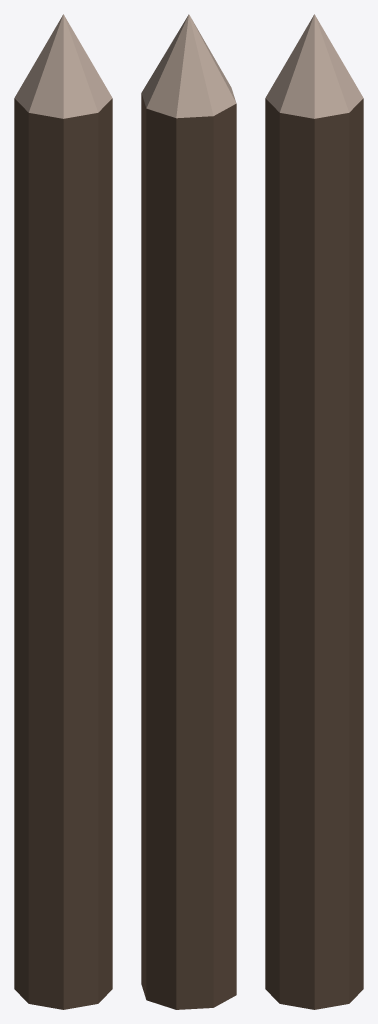
File: WoodStake 1.fbx
3 views of the same model, side by side, from view 1: azimuth 90°, elevation 25°; view 2: azimuth 210°, elevation 25°; view 3: azimuth 270°, elevation 25° (orthographic).
Visible parts, largest first — view 1: pCylinder2; view 2: pCylinder2; view 3: pCylinder2.
Part boxes in pixels (box(x1,y1,x2,y2)): pCylinder2: box(14, 14, 112, 1009); pCylinder2: box(141, 14, 236, 1009); pCylinder2: box(265, 14, 363, 1009).
Size of the model in its own units: 0.4 by 4.38 by 0.4.
